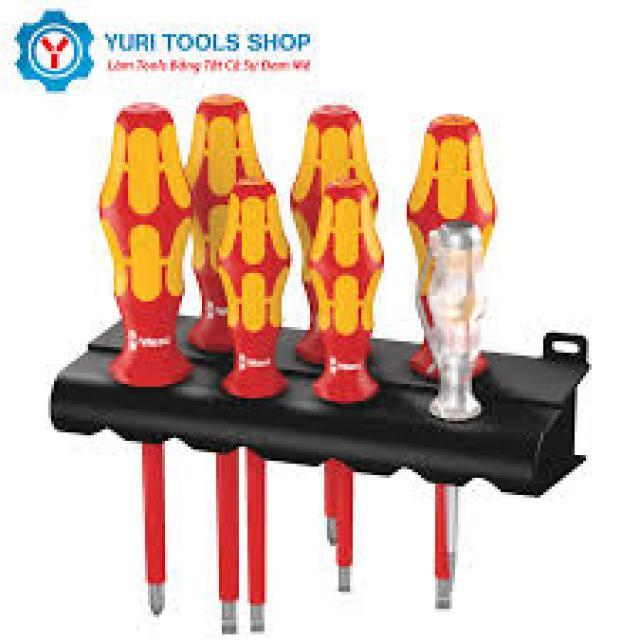screwdriver: (96, 101, 200, 627), (404, 107, 501, 610), (179, 97, 265, 638), (287, 95, 381, 548), (222, 176, 293, 632), (310, 180, 384, 602), (422, 228, 493, 588)
